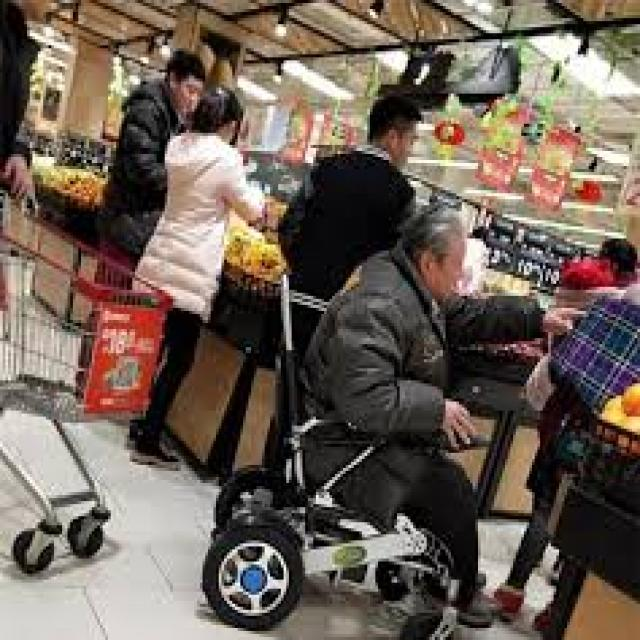wheelchairs: (197, 260, 473, 637)
